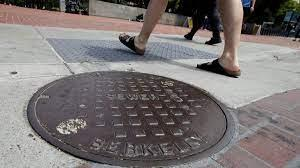closed manhole-not overflowing-: (29, 63, 235, 168)
